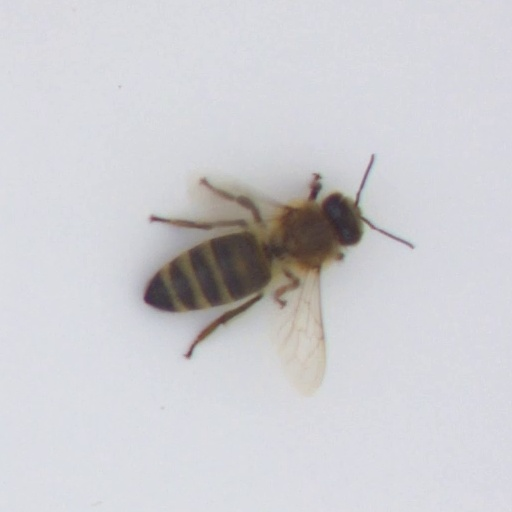Bee: (125, 186, 377, 326)
Thorax: (270, 197, 336, 271)
